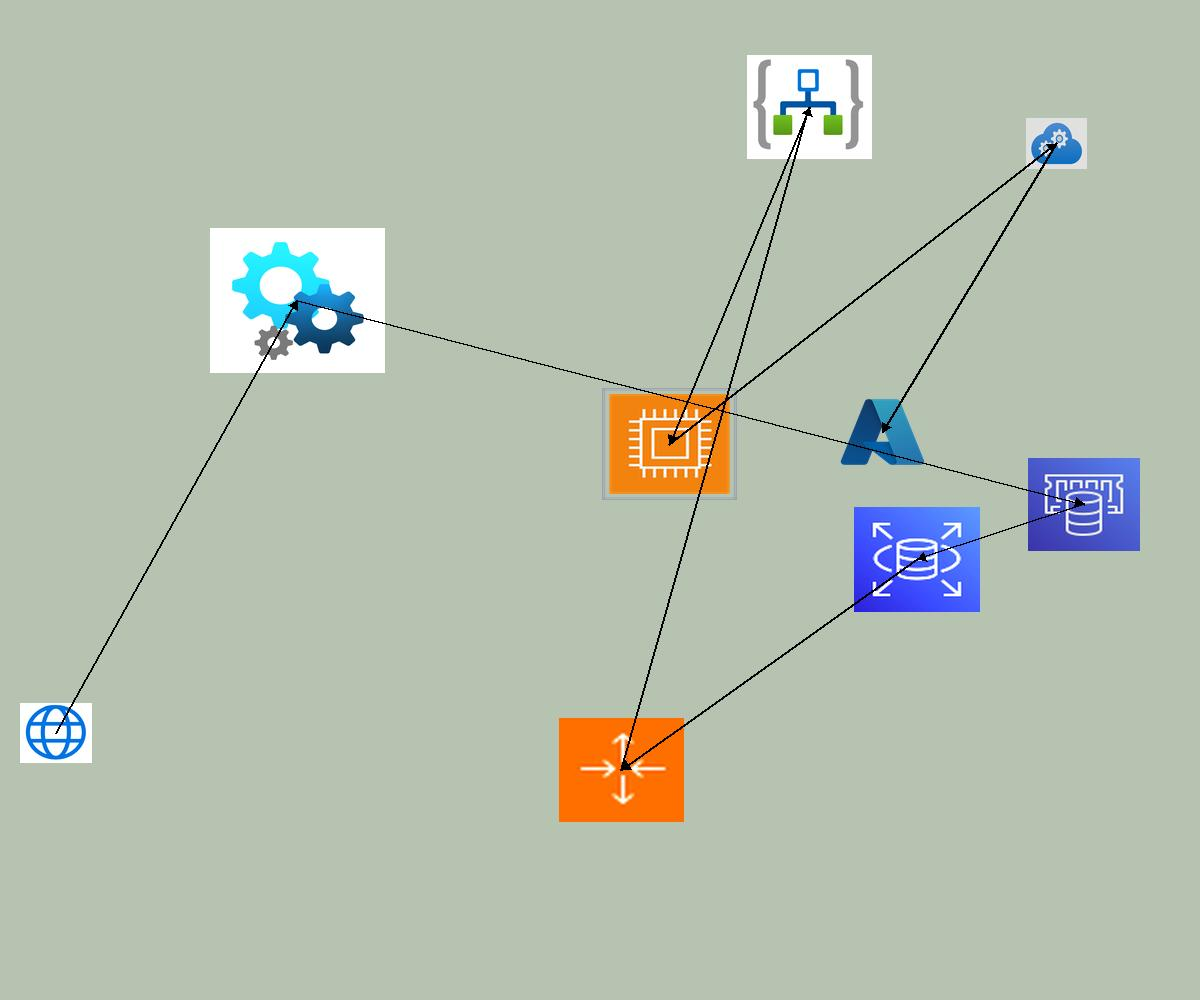AWS-Category_Compute: (602, 388, 737, 500)
AWS-ElastiCache: (1028, 458, 1140, 551)
AWS-RDS: (854, 507, 980, 612)
AWS-Scaling-group: (559, 718, 684, 822)
Azure_api: (210, 228, 385, 373)
Azure_cloud_services: (1026, 118, 1087, 169)
Azure_http: (20, 703, 92, 763)
Azure_integration-204-Logic-Apps: (747, 55, 872, 159)
Azure_services: (837, 394, 928, 470)
